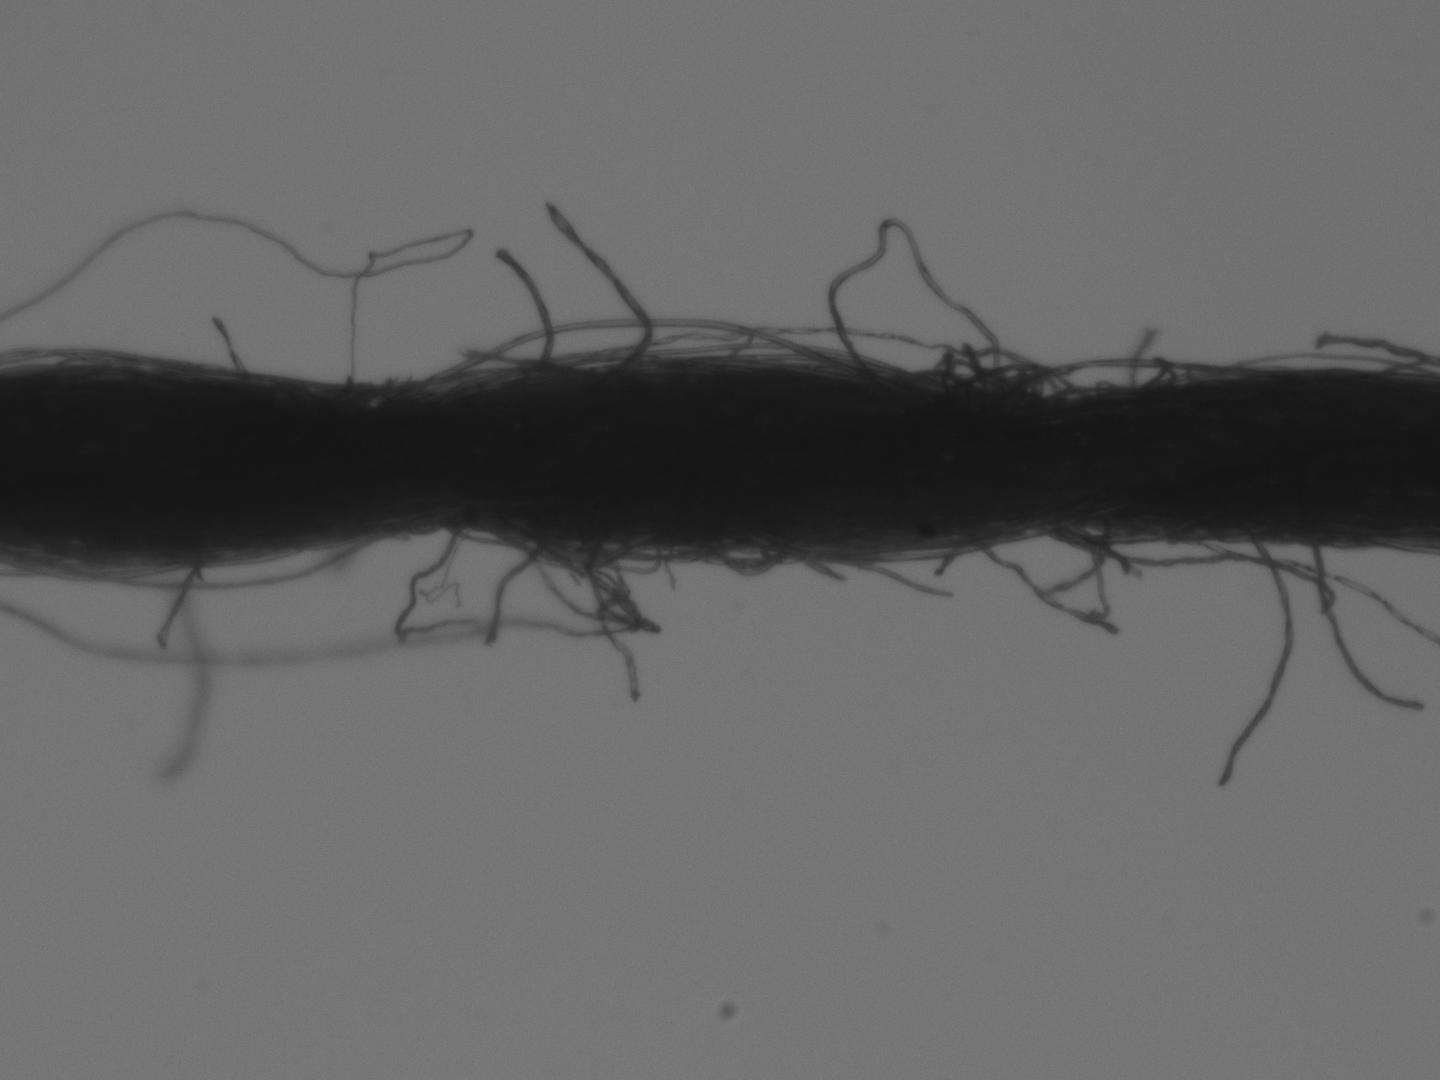loop_fiber: (429, 314, 861, 385), (827, 218, 1002, 381), (446, 520, 654, 630), (523, 331, 910, 378), (729, 326, 976, 381), (1008, 354, 1251, 406), (768, 520, 1049, 564), (918, 348, 1065, 403), (523, 530, 651, 573), (950, 360, 1078, 396), (1051, 515, 1194, 547), (710, 537, 783, 576), (940, 357, 981, 390), (1064, 516, 1110, 545)
protruding_fiber: (547, 199, 653, 377), (1311, 542, 1422, 710), (1218, 537, 1291, 784), (598, 535, 641, 698), (488, 535, 550, 644), (499, 246, 551, 365), (855, 556, 952, 601), (1320, 334, 1435, 369), (155, 566, 194, 647), (217, 314, 252, 376)
